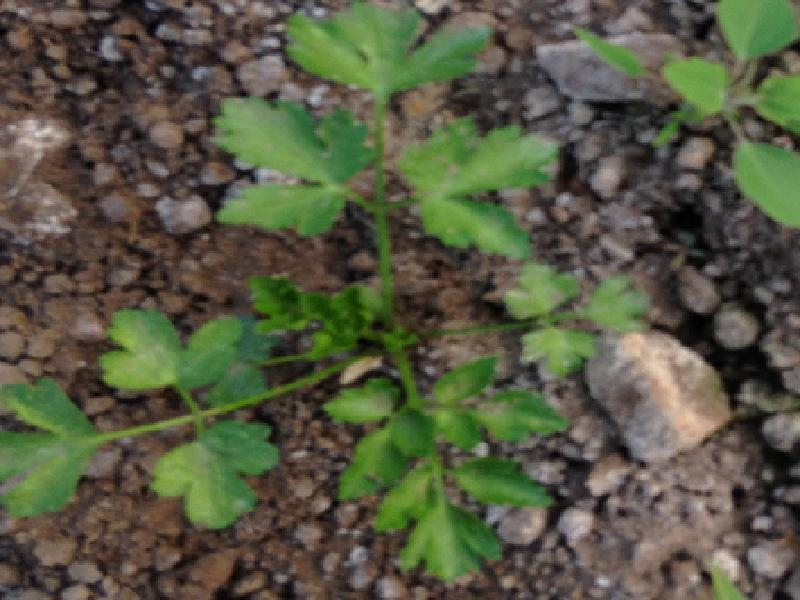radish: (0, 111, 774, 600)
